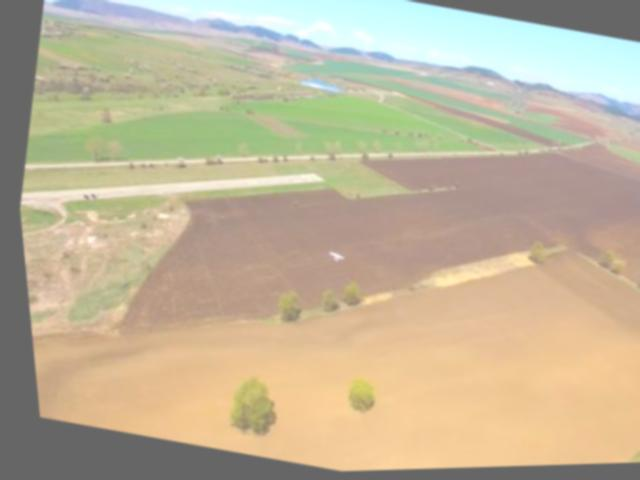uav: (319, 247, 344, 270)
